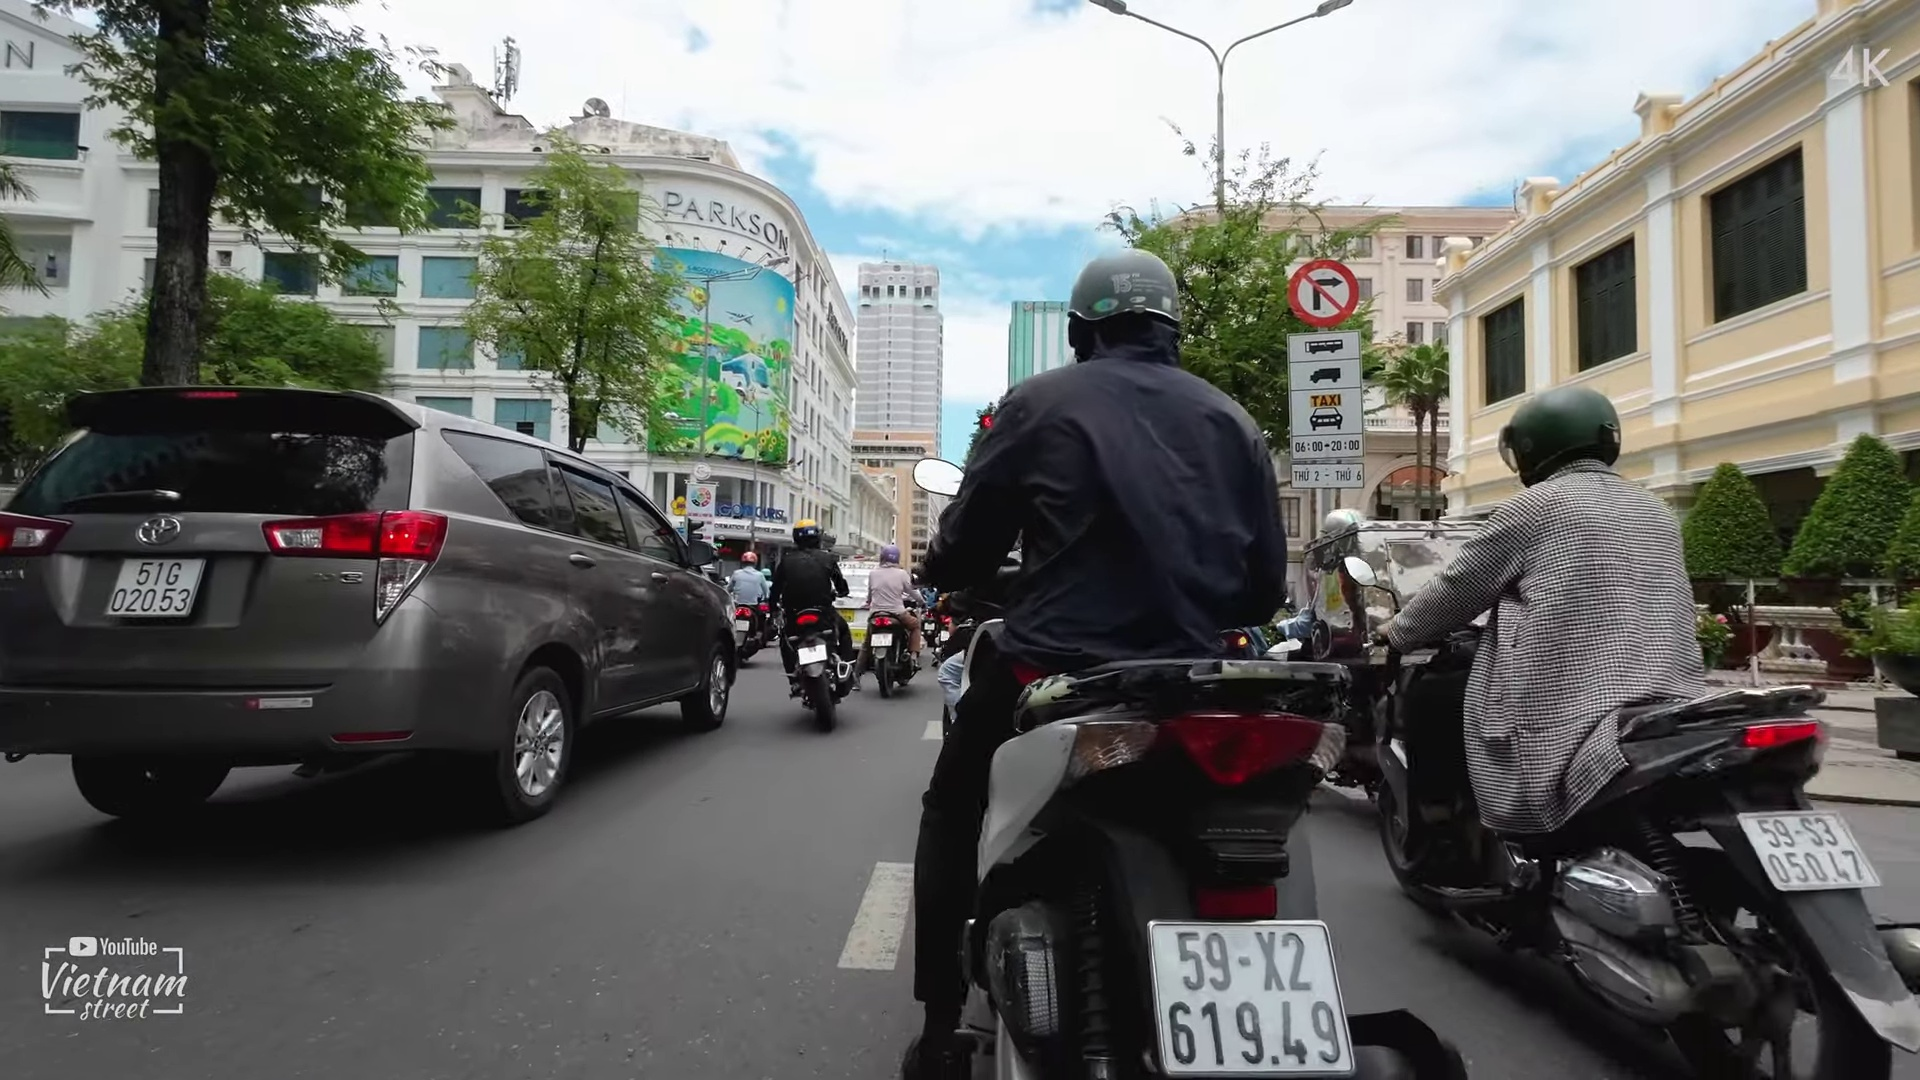cam_re_phai: (1284, 251, 1361, 331)
